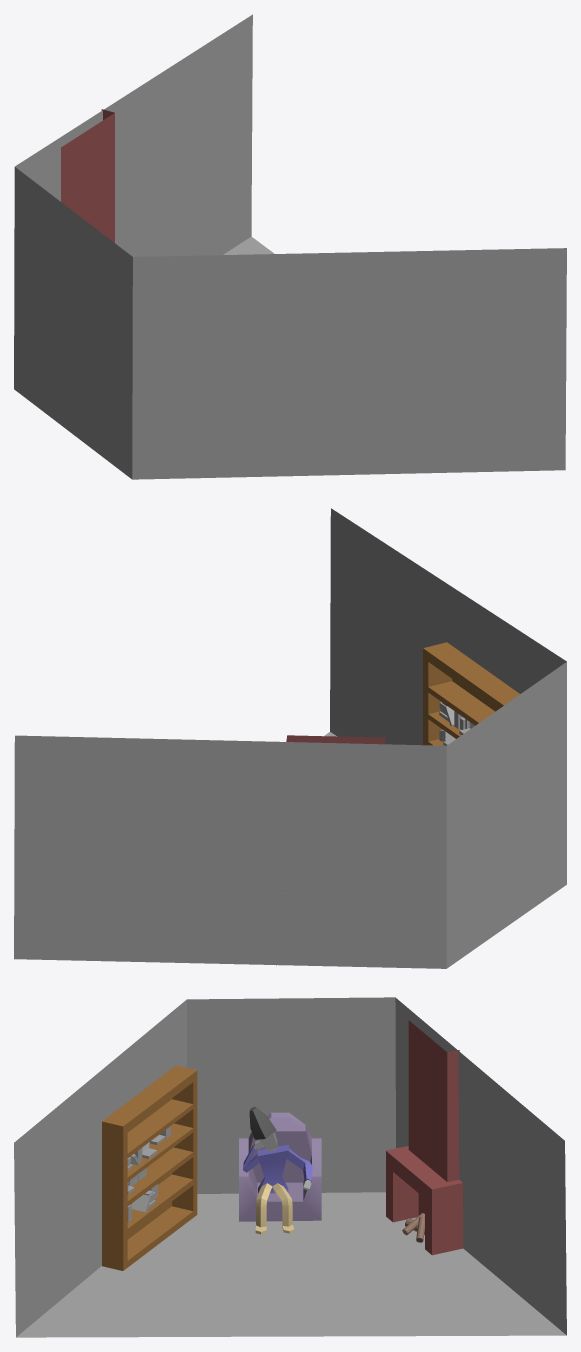
Rendered from DivinerInterior.fbx.
3 views of the same model, one above another, from view 1: azimuth 30°, elevation 25°; view 2: azimuth 150°, elevation 25°; view 3: azimuth 270°, elevation 25° (orthographic). The views are drawn at different scales.
Visible parts, largest first — view 1: Building, Fireplace; view 2: Building, Bookshelf, Fireplace; view 3: Building, Bookshelf, Fireplace, Chair, DivinerTorso, DivinerLegs, DivinerHat, Books2, Books1.
Part boxes in pixels (x1,y1,x2,y2): Building: (14, 14, 566, 479); Fireplace: (61, 109, 114, 242); Building: (14, 508, 566, 968); Bookshelf: (423, 642, 519, 745); Fireplace: (276, 735, 393, 965); Building: (14, 997, 566, 1337); Bookshelf: (102, 1065, 197, 1270); Fireplace: (386, 1020, 463, 1255); Chair: (239, 1112, 321, 1221); DivinerTorso: (243, 1144, 312, 1193); DivinerLegs: (255, 1183, 294, 1234); DivinerHat: (249, 1106, 276, 1139); Books2: (127, 1127, 169, 1220); Books1: (127, 1148, 157, 1212).
Bounding box in the file's own units: 7.14 × 4.6 × 11.62.
